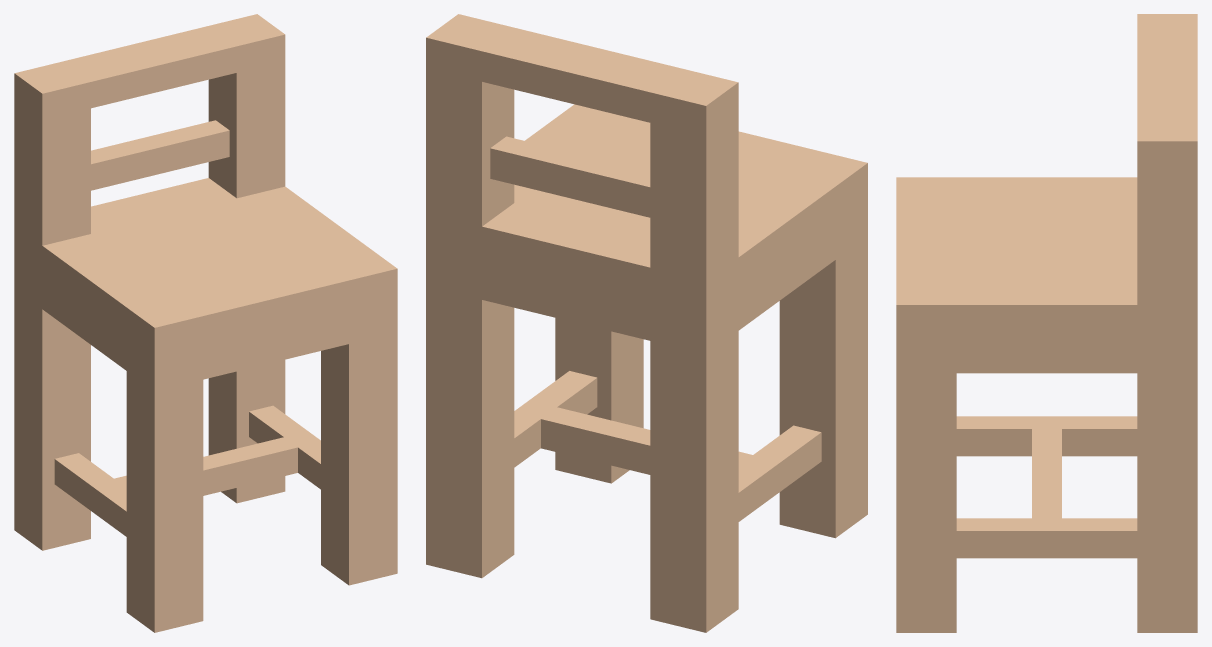
File: chair_low_back.glb
3 views of the same model, side by side, from view 1: azimuth 30°, elevation 25°; view 2: azimuth 150°, elevation 25°; view 3: azimuth 270°, elevation 25° (orthographic). The views are drawn at different scales.
Parts seen in each view (by area): view 1: chair(Clone); view 2: chair(Clone); view 3: chair(Clone).
Boxes of the visible parts, x1,y1,x2,y2 form: chair(Clone): (14,14,397,632); chair(Clone): (426,14,867,632); chair(Clone): (896,14,1197,632).
Size of the model in its own units: 0.2 by 0.3596 by 0.2.
